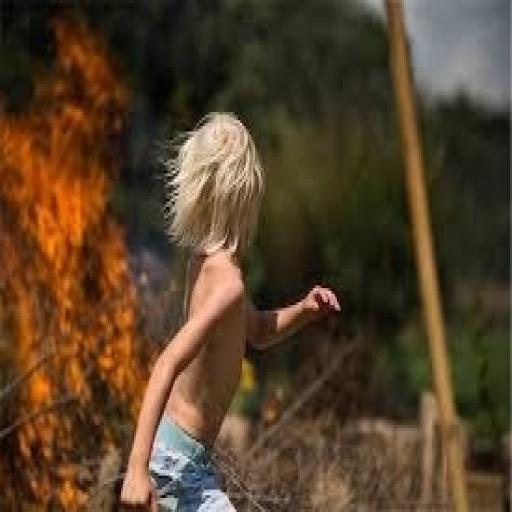running: (116, 109, 344, 509)
